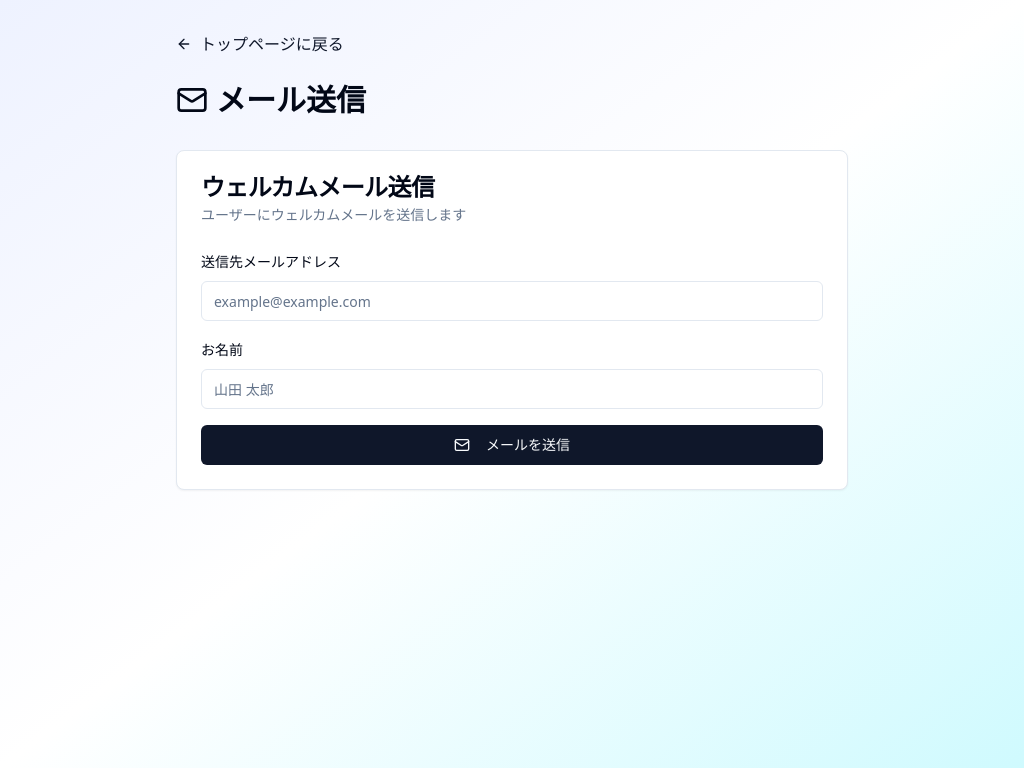
Test: SendEmailPage Integration › sends email successfully
In the field labelled "送信先メールアドレス": {"x": 512, "y": 301} [201,281,823,321], type "test@example.com"
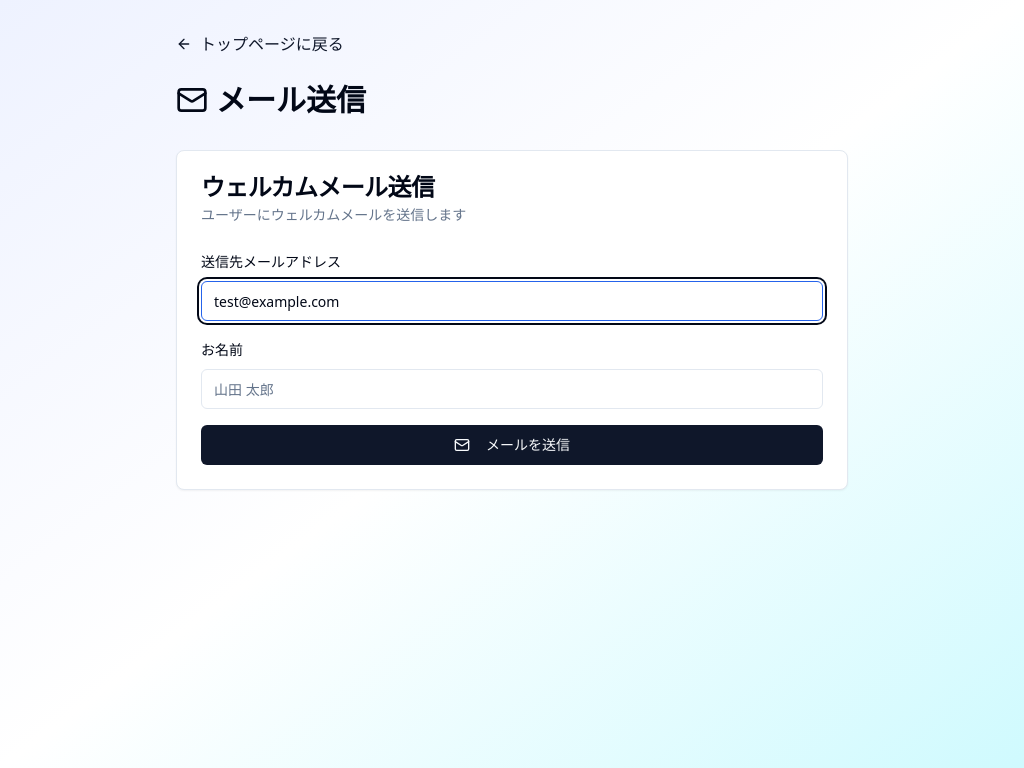
In the field labelled "お名前": {"x": 512, "y": 389} [201,369,823,409], type "Test User"
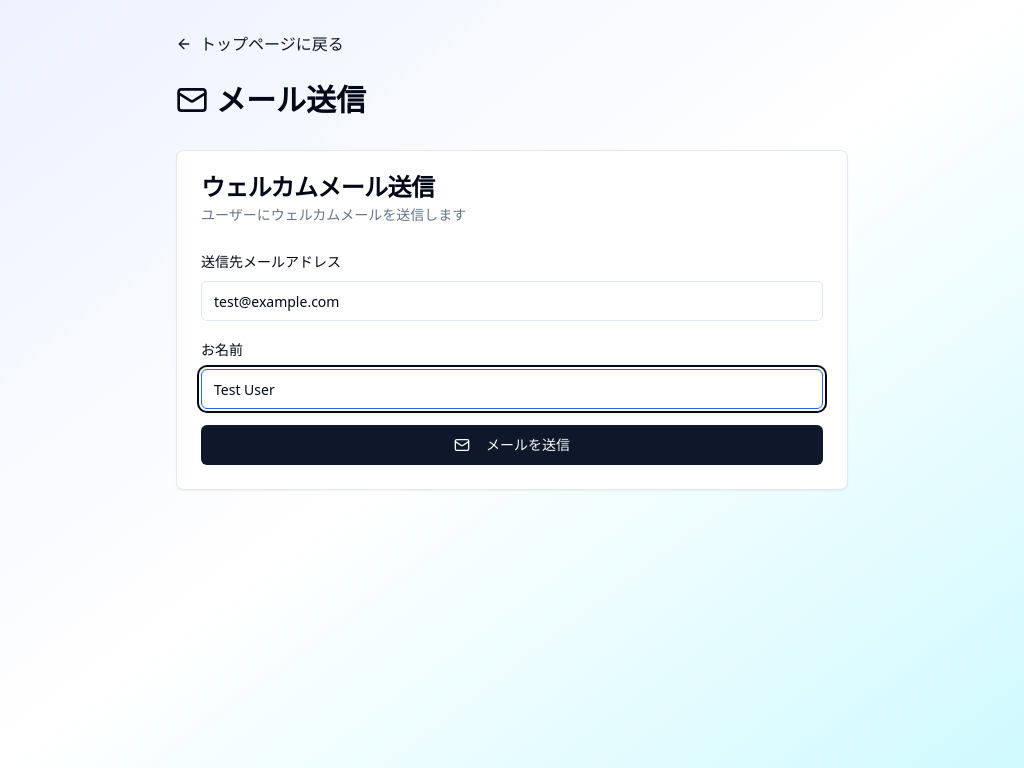
Click the button "メールを送信": {"x": 512, "y": 445} [201,425,823,465]
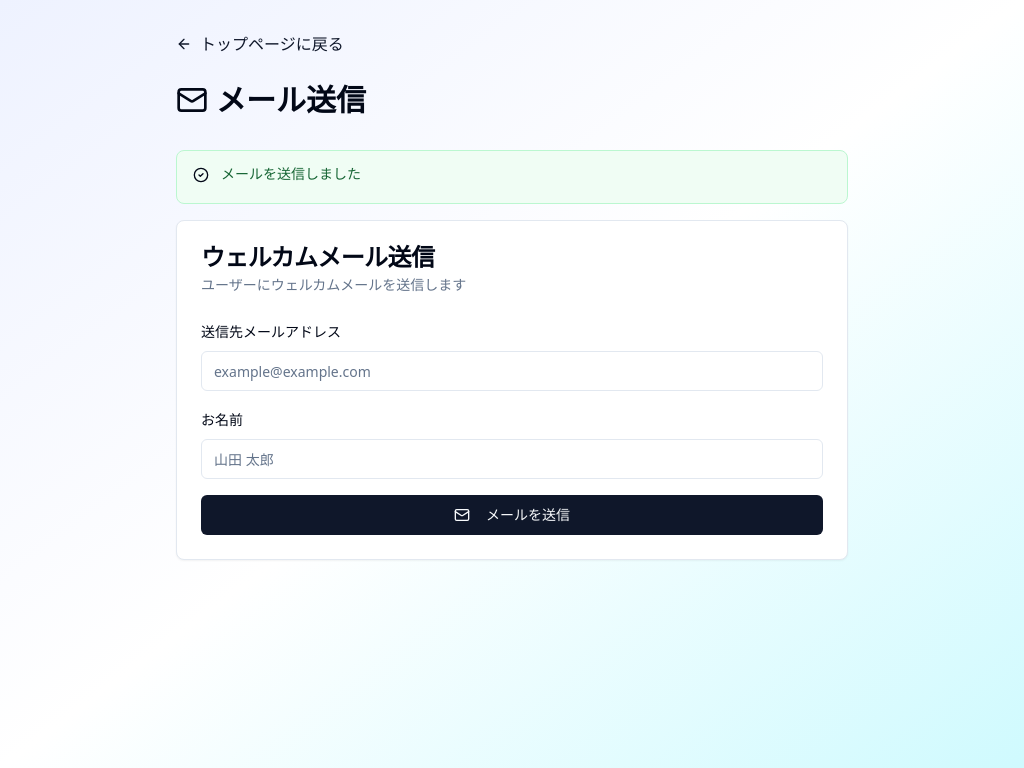
Expected: the text "メールを送信しました" is shown, [221,164,361,183]
Expected: the field labelled "送信先メールアドレス" is empty, [201,351,823,391]
Expected: the field labelled "お名前" is empty, [201,439,823,479]
